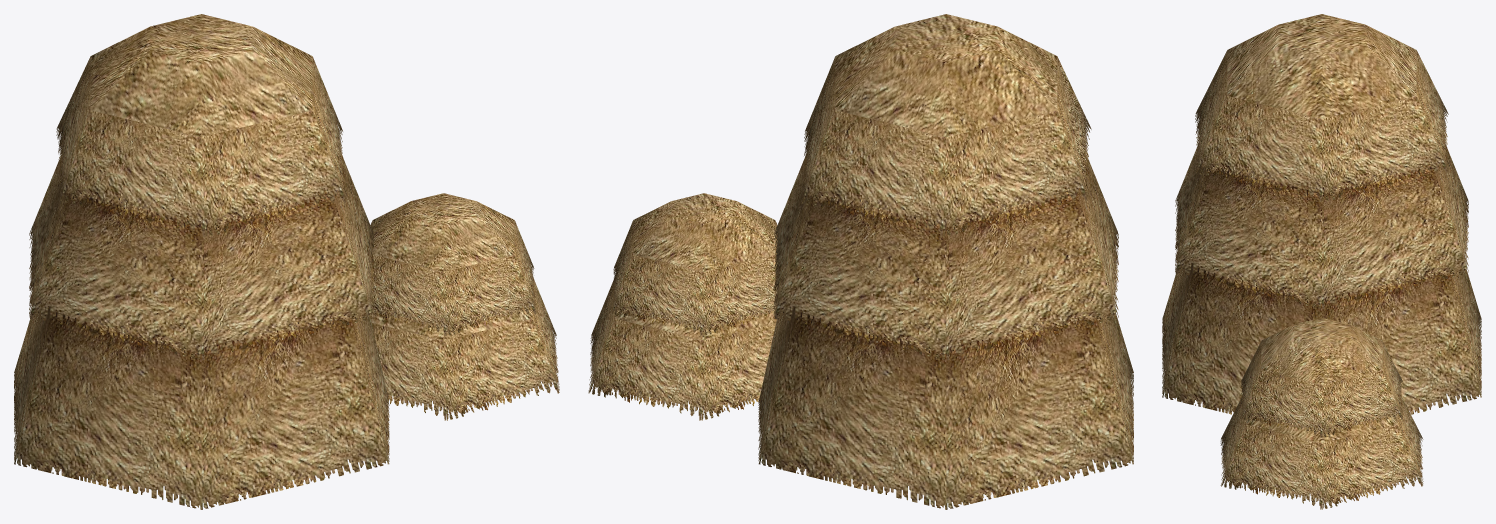
File: oas_kara_obj05@s80.glb
3 renders of one model, left to right at view 1: azimuth 30°, elevation 25°; view 2: azimuth 150°, elevation 25°; view 3: azimuth 270°, elevation 25°, orthographic. The views are drawn at different scales.
Parts seen in each view (by area): view 1: oas_kara_obj05; view 2: oas_kara_obj05; view 3: oas_kara_obj05.
Part boxes in pixels (bbox=[...]): oas_kara_obj05: bbox=[14, 14, 559, 509]; oas_kara_obj05: bbox=[588, 14, 1133, 509]; oas_kara_obj05: bbox=[1162, 14, 1481, 509].
Bounding box in the file's own units: 2.12 × 1.43 × 1.27.
1 material, 1 textured.
